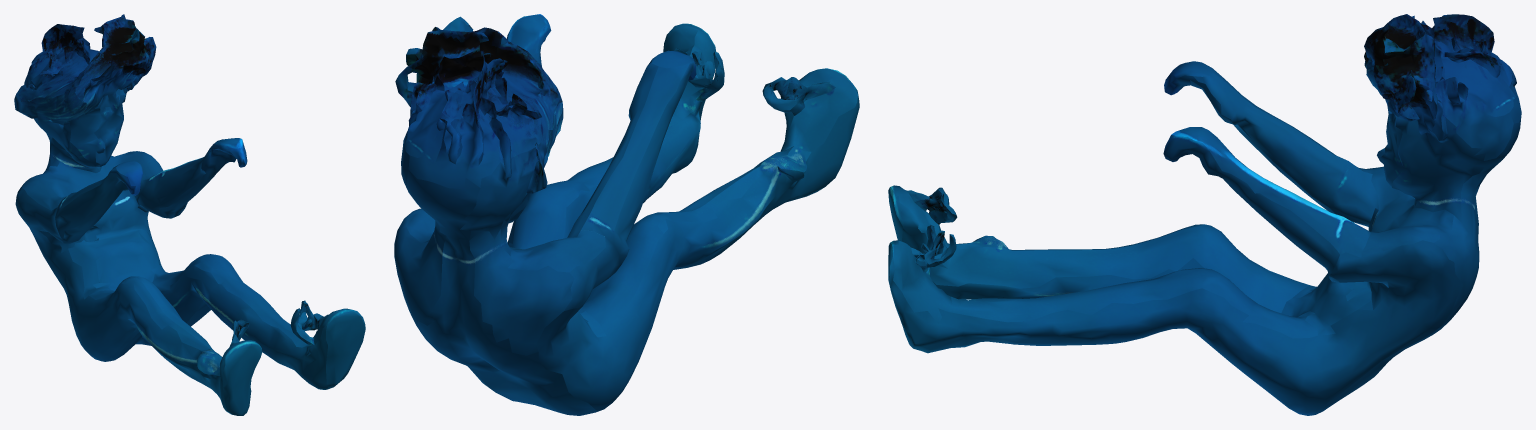
The model's file is sample(3).gltf.
3 renders of one model, left to right at view 1: azimuth 30°, elevation 25°; view 2: azimuth 150°, elevation 25°; view 3: azimuth 270°, elevation 25°, orthographic. The views are drawn at different scales.
Visible parts, largest first — view 1: world; view 2: world; view 3: world.
Part boxes in pixels (x1,y1,x2,y2): world: [14, 14, 365, 415]; world: [394, 14, 859, 415]; world: [888, 14, 1521, 415].
Bounding box in the file's own units: 0.3289 × 0.6465 × 0.9485.
1 material, 1 textured.
